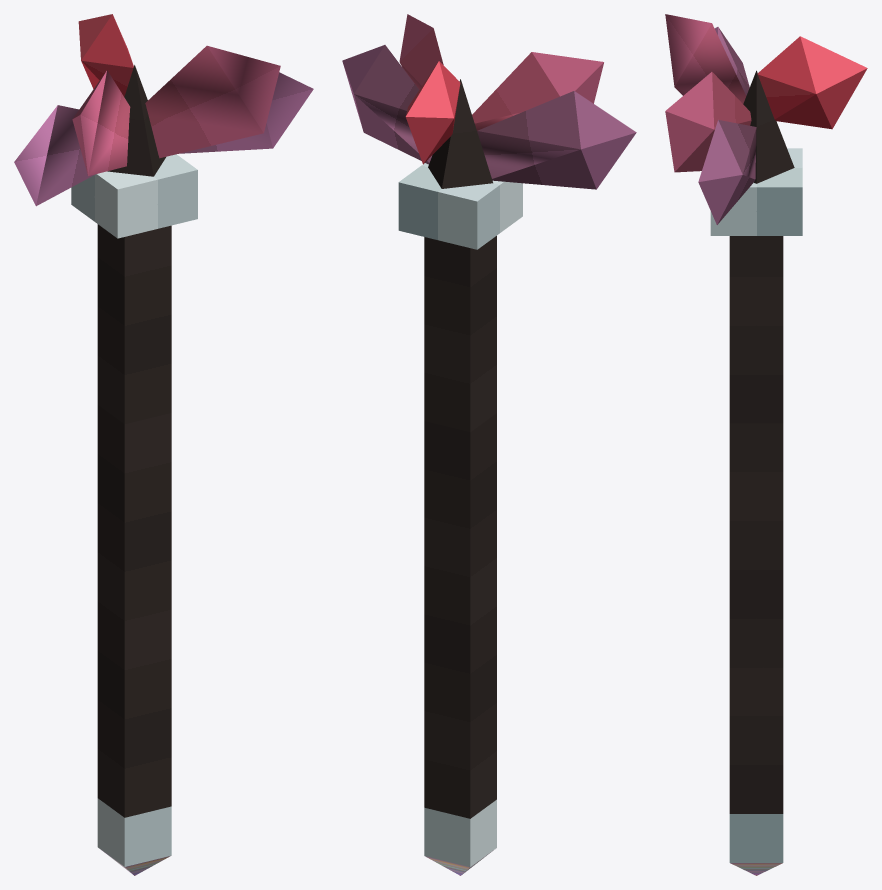
File: wand_wakebloom.obj
The picture shows the model from 3 angles, left to right: view 1: azimuth 30°, elevation 25°; view 2: azimuth 150°, elevation 25°; view 3: azimuth 270°, elevation 25°; orthographic projection.
Parts seen in each view (by area): view 1: WAND_VAR13_Cube.044; view 2: WAND_VAR13_Cube.044; view 3: WAND_VAR13_Cube.044.
Part boxes in pixels (box(x1,y1,x2,y2)): WAND_VAR13_Cube.044: box(14, 14, 313, 875); WAND_VAR13_Cube.044: box(342, 14, 636, 875); WAND_VAR13_Cube.044: box(665, 14, 867, 875).
Size of the model in its own units: 0.3987 by 1.07 by 0.2349.
